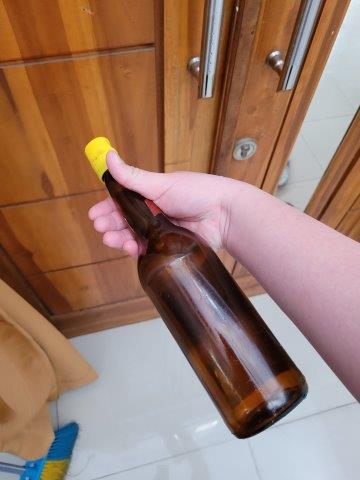botolkaca: (84, 136, 310, 438)
